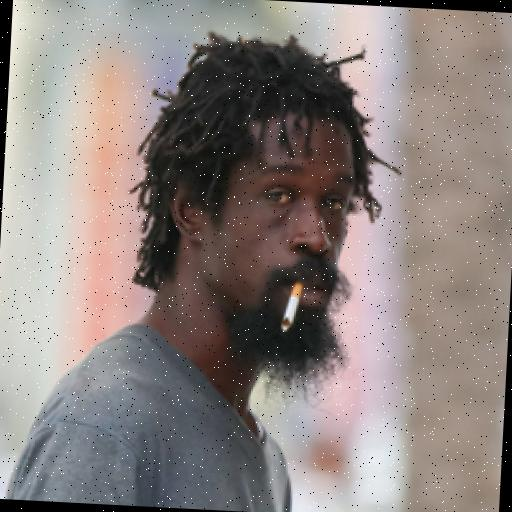dataset-deteksi-merokok: (242, 180, 364, 380)
